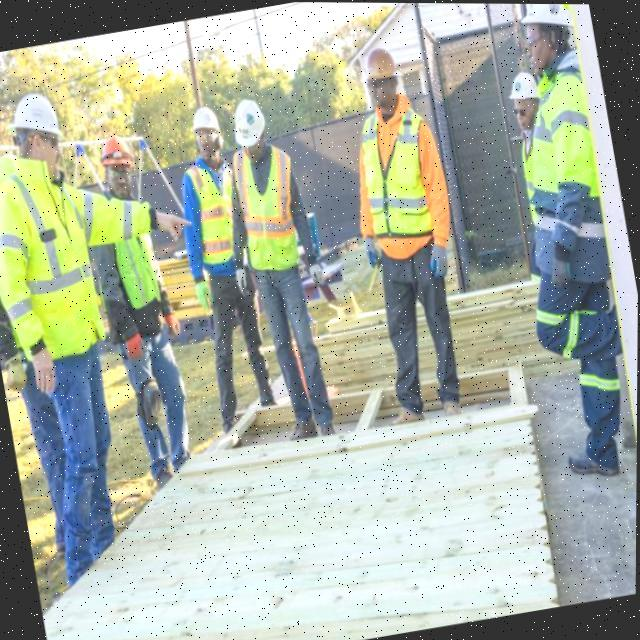goggles_on: (186, 120, 225, 151), (354, 69, 402, 94), (99, 160, 138, 184)
